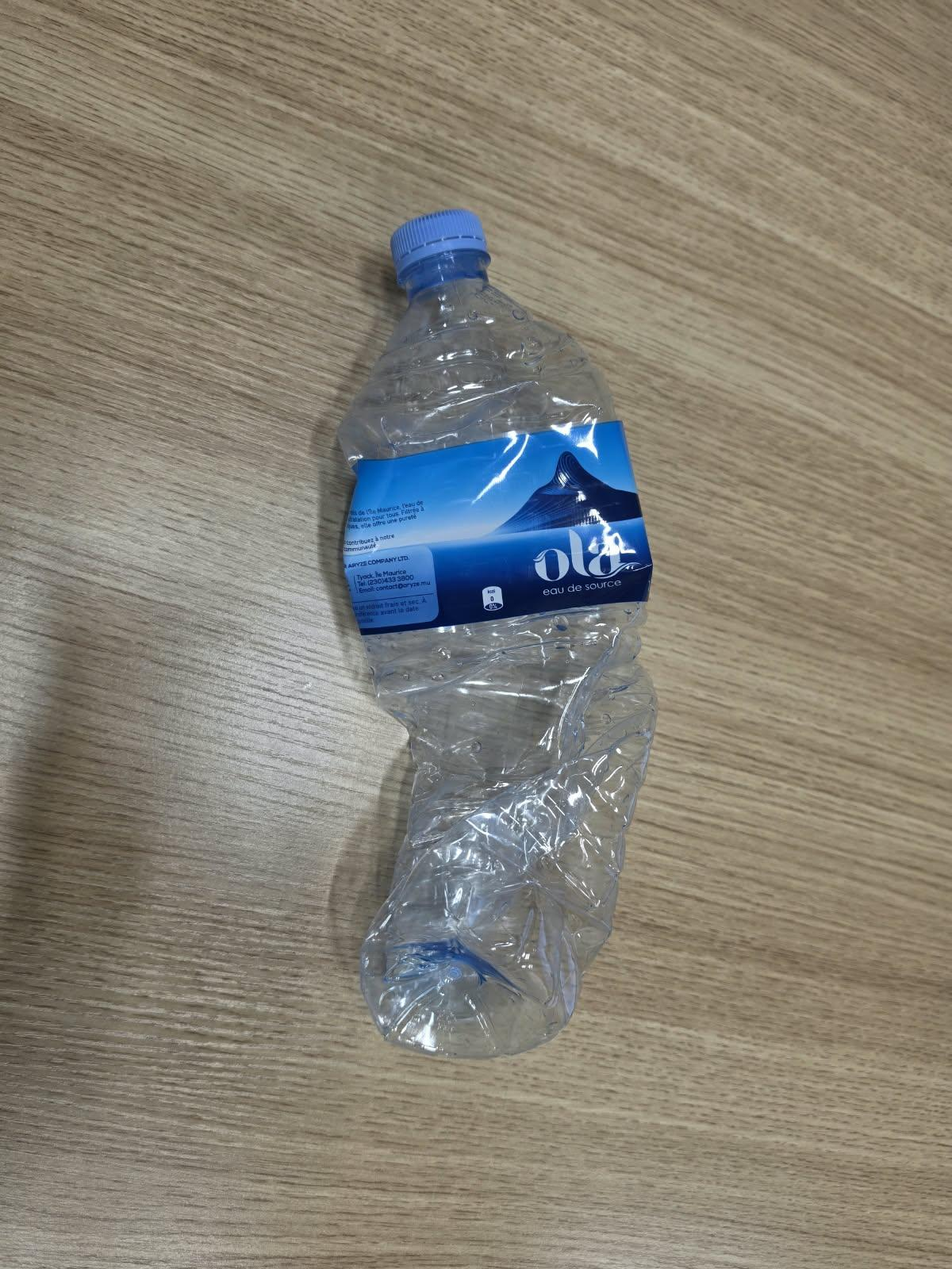bottle: (336, 209, 658, 1060)
